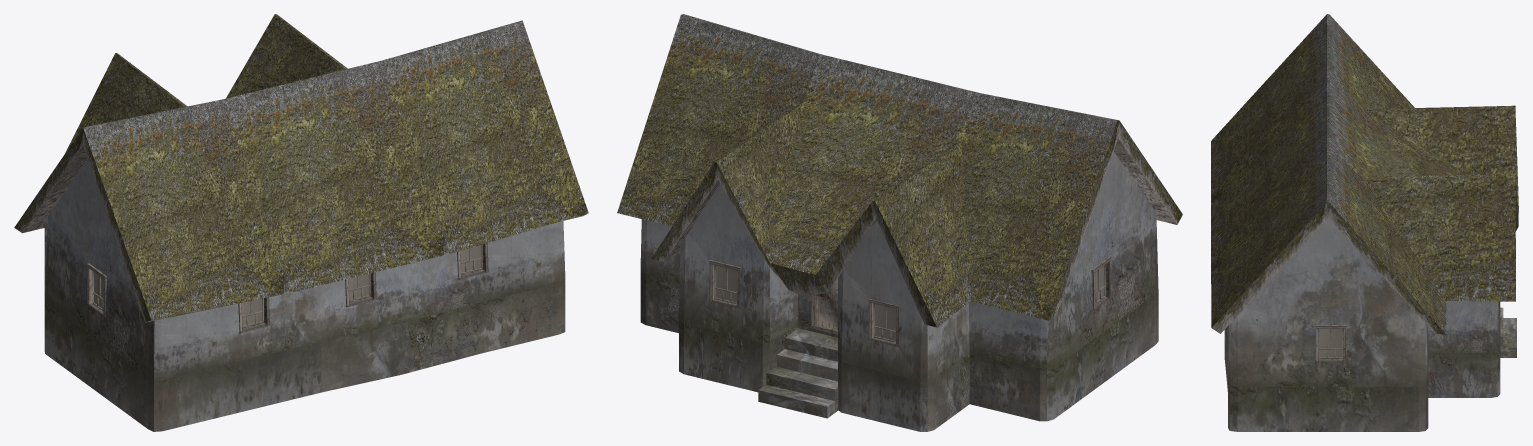
File: plasterHouse2.fbx
3 renders of one model, left to right at view 1: azimuth 30°, elevation 25°; view 2: azimuth 150°, elevation 25°; view 3: azimuth 270°, elevation 25°, orthographic. The views are drawn at different scales.
Parts seen in each view (by area): view 1: roof, base; view 2: roof, base, steps, door; view 3: roof, base, steps.
Part boxes in pixels (x1,y1,x2,y2): roof: [14, 14, 588, 322]; base: [44, 159, 565, 431]; roof: [617, 14, 1182, 327]; base: [640, 151, 1158, 431]; steps: [758, 328, 838, 418]; door: [815, 265, 845, 330]; roof: [1211, 14, 1518, 334]; base: [1224, 218, 1500, 431]; steps: [1500, 307, 1516, 357].
Bounding box in the file's own units: 19.78 × 11.45 × 13.63.
